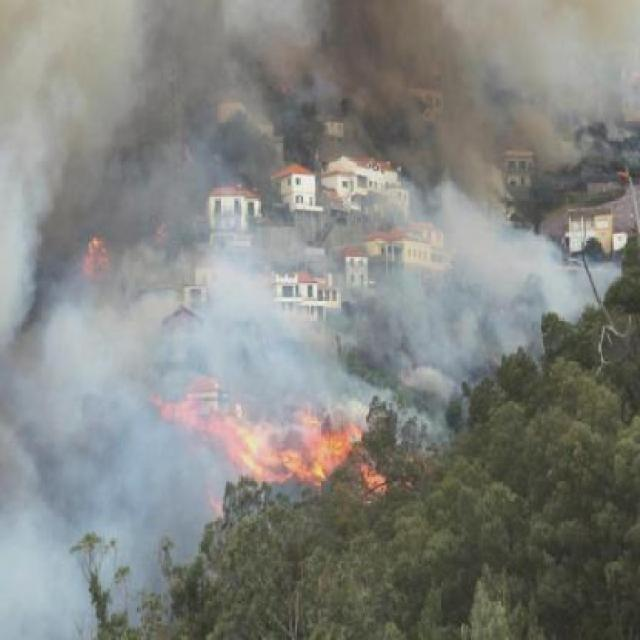Fire: (185, 391, 435, 528)
Smoke: (0, 13, 640, 390), (6, 401, 192, 640)
